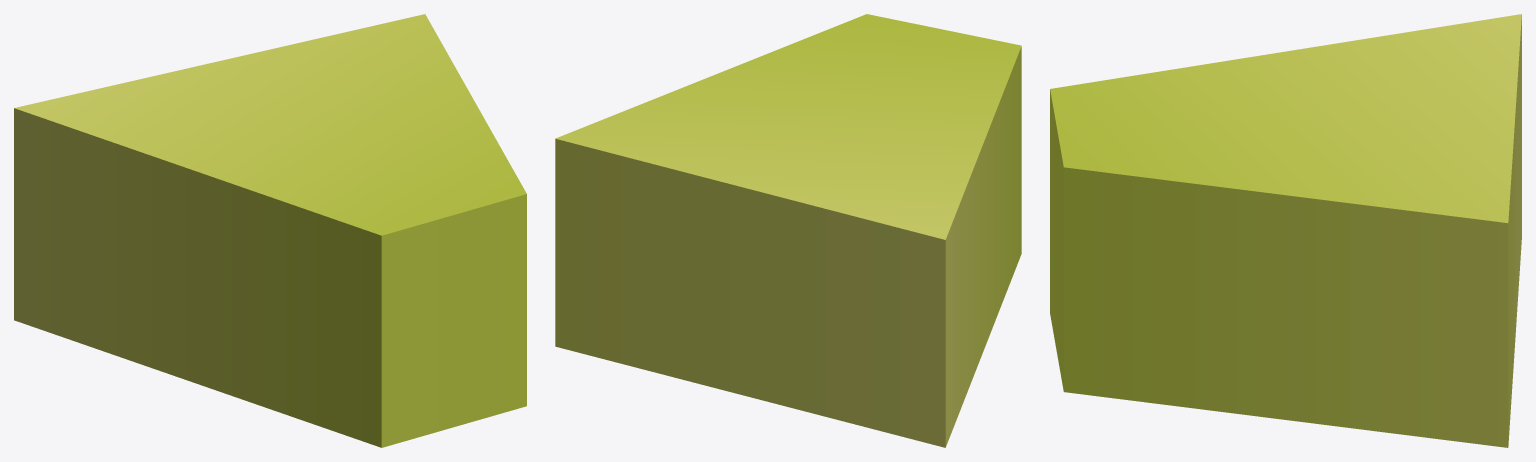
Rendered from Melon Slice.fbx.
The picture shows the model from 3 angles, left to right: view 1: azimuth 30°, elevation 25°; view 2: azimuth 150°, elevation 25°; view 3: azimuth 270°, elevation 25°; orthographic projection. The views are drawn at different scales.
Visible parts, largest first — view 1: Melon Slice; view 2: Melon Slice; view 3: Melon Slice.
Boxes of the visible parts, x1=… form: Melon Slice: x1=14, y1=14, x2=526, y2=447; Melon Slice: x1=555, y1=14, x2=1021, y2=447; Melon Slice: x1=1050, y1=14, x2=1521, y2=447.
Bounding box in the file's own units: 4.55 × 2.28 × 4.34.
